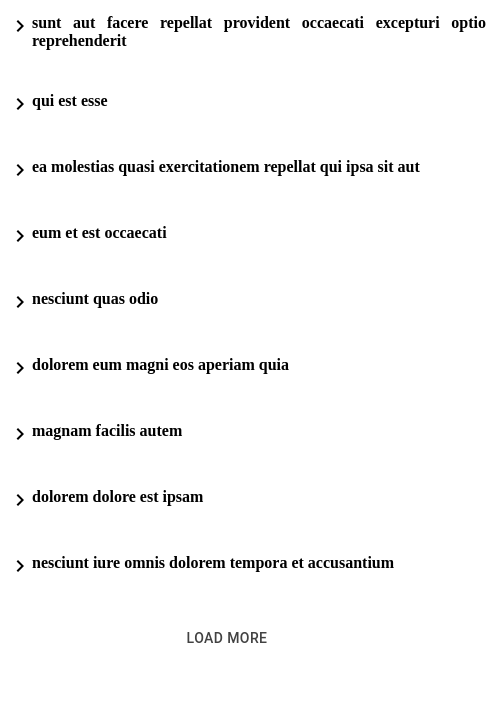
should have Tooltip text when hovering over the "Load More" button
This screenshot has width=503, height=709.
Hover over the button with test id "loadMoreBtn": (227, 639) [179,620,275,657]
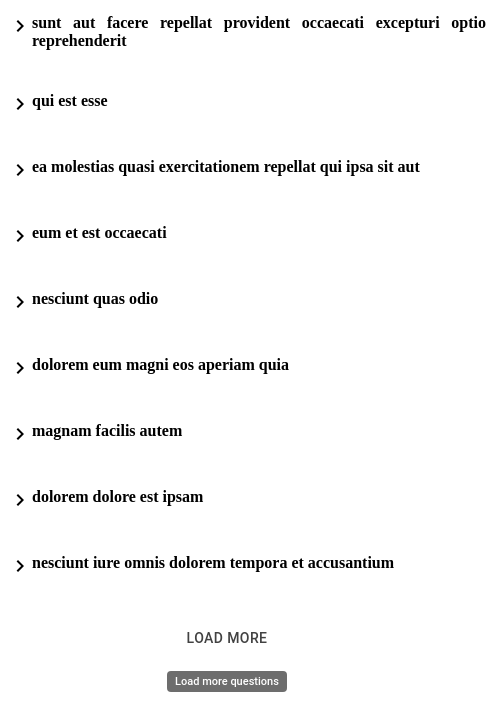
Expected: the text "Load more questions" is shown, [167,671,287,692]
